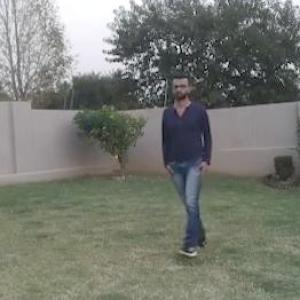follow: (167, 76, 213, 232)
